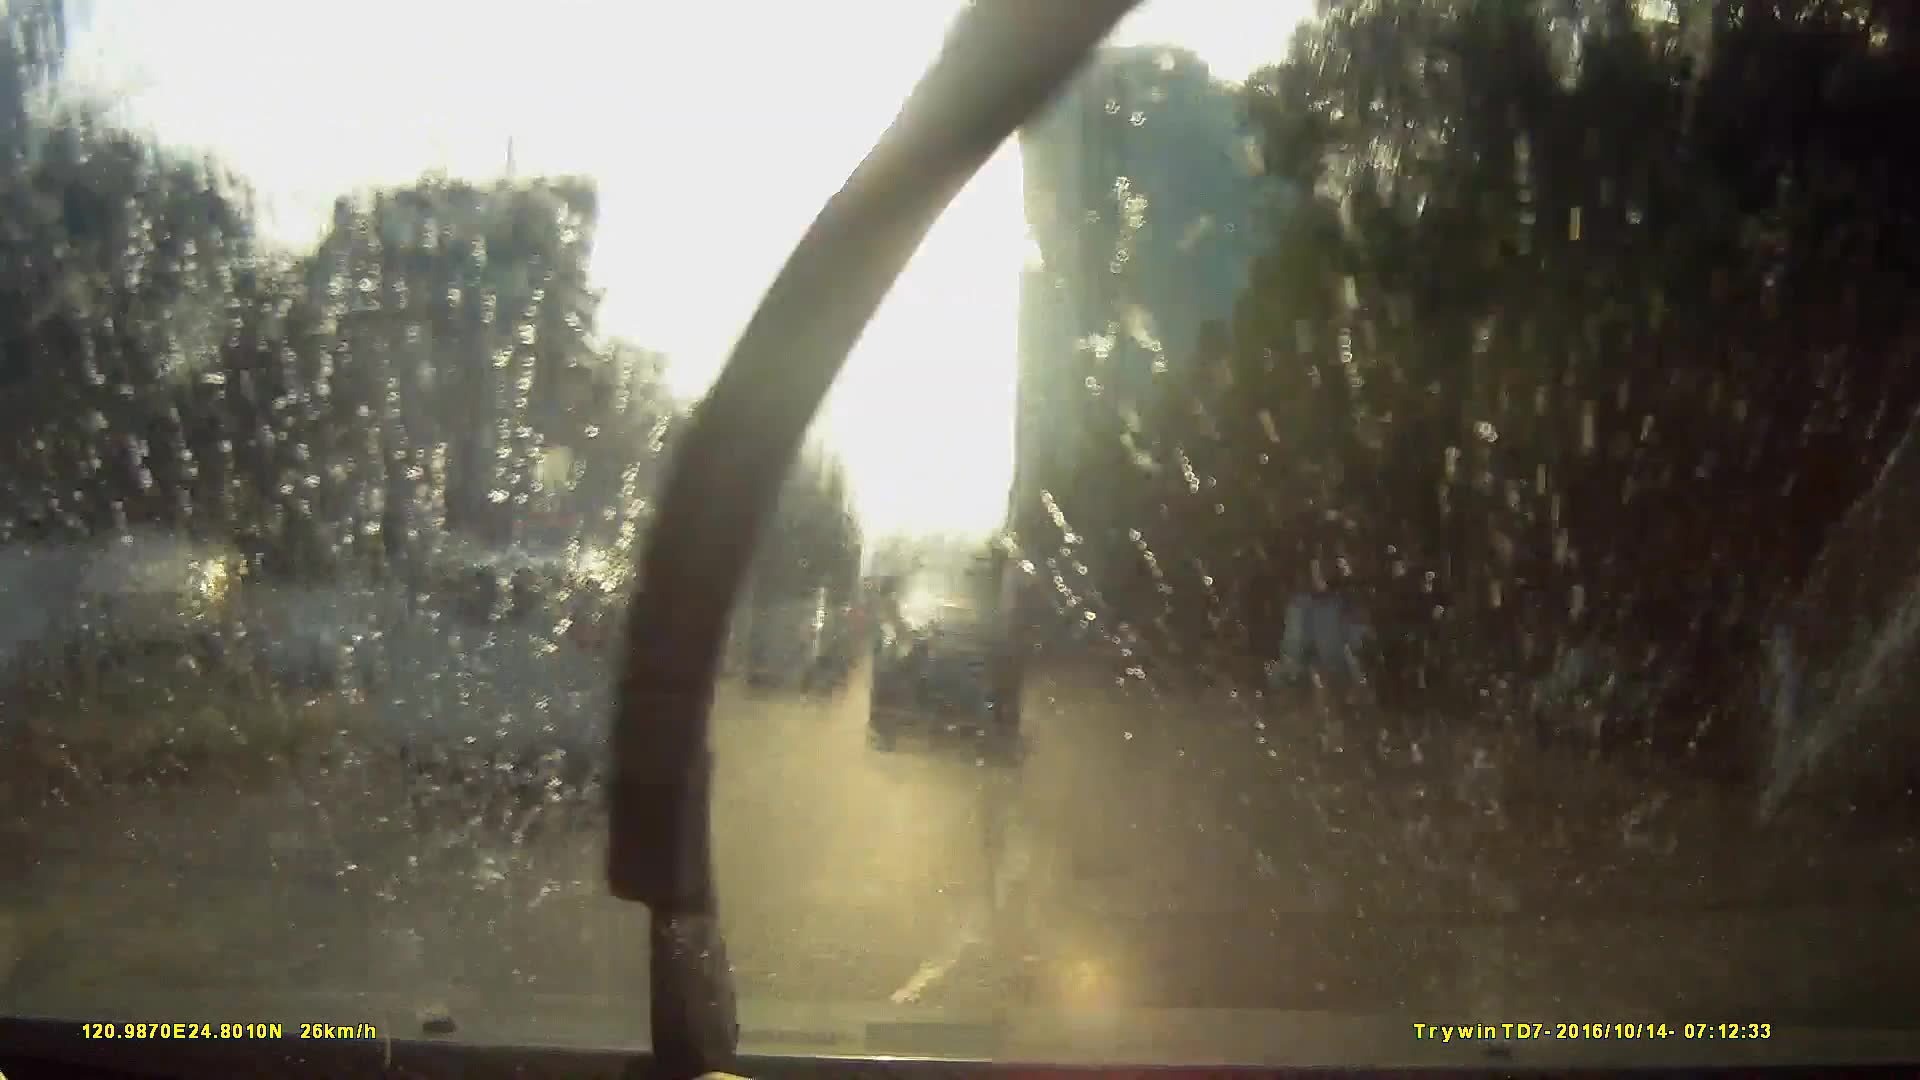vehicle: (251, 556, 684, 868), (384, 546, 698, 793), (465, 488, 719, 673), (869, 597, 1023, 756), (997, 556, 1102, 683), (736, 611, 845, 696), (866, 638, 915, 687)
